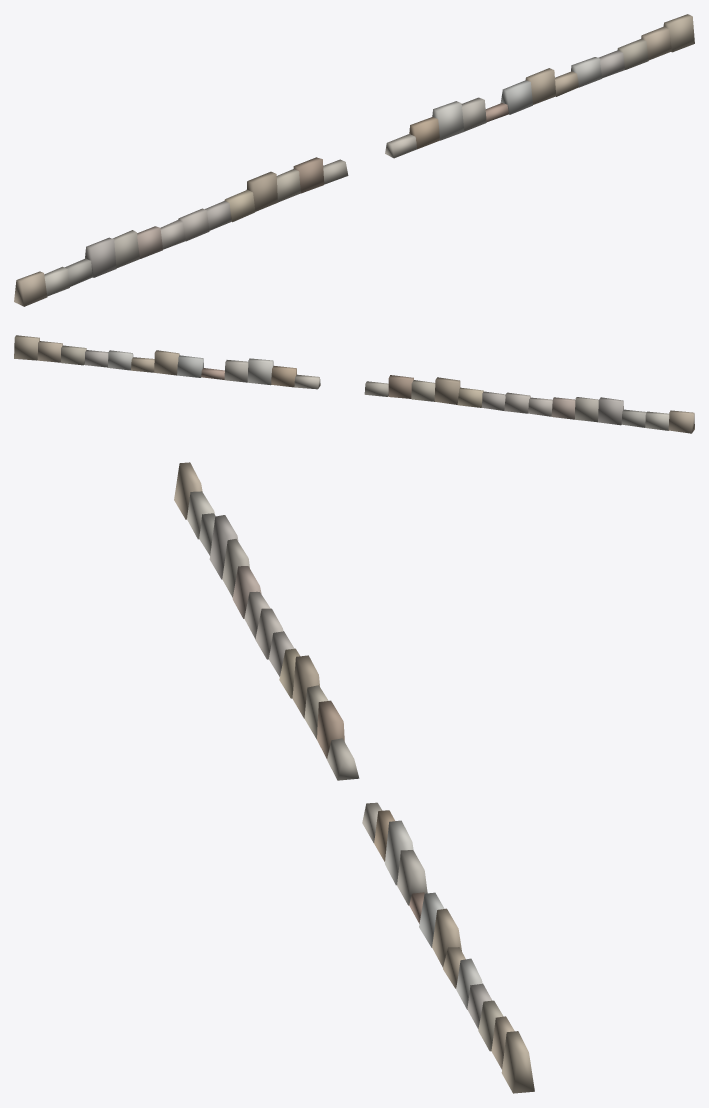
File: farm_-37_-35_far.glb
3 views of the same model, one above another, from view 1: azimuth 30°, elevation 25°; view 2: azimuth 150°, elevation 25°; view 3: azimuth 270°, elevation 25° (orthographic). The views are drawn at different scales.
Parts seen in each view (by area): view 1: geometry_0; view 2: geometry_0; view 3: geometry_0.
Boxes of the visible parts, x1,y1,x2,y2 form: geometry_0: (14, 14, 694, 306); geometry_0: (14, 335, 694, 433); geometry_0: (174, 462, 534, 1093).
Bounding box in the file's own units: 43.96 × 2.08 × 11.54.
